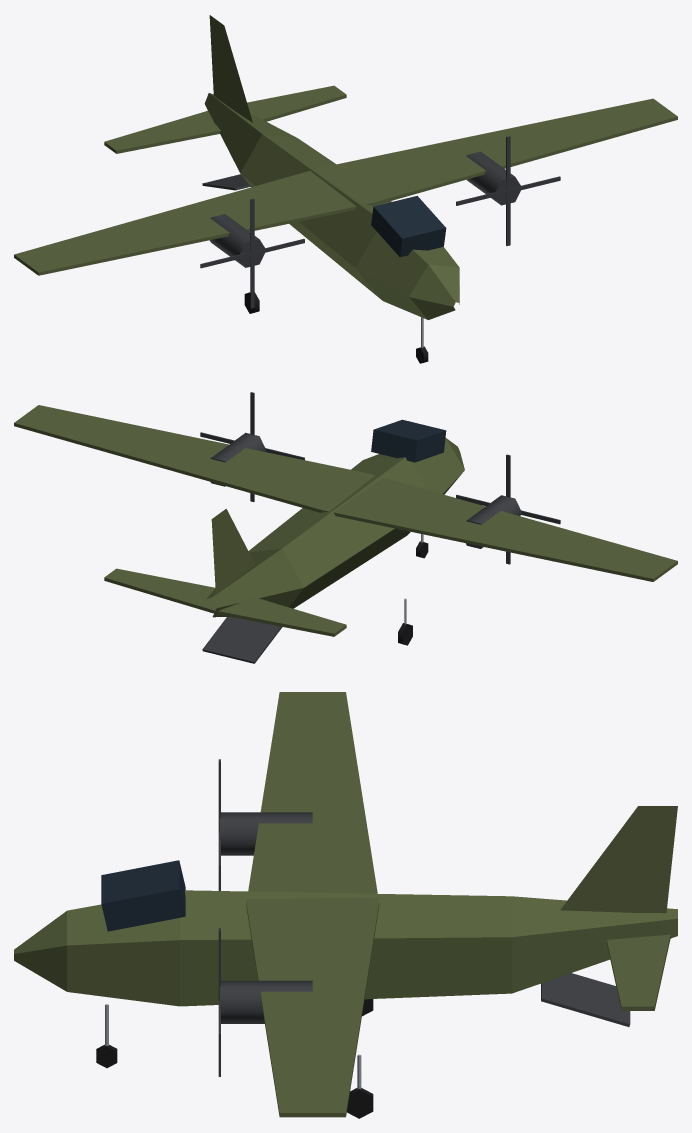
File: veh_air_transport_plane_a06_lod1.glb
3 renders of one model, top to bottom at view 1: azimuth 30°, elevation 25°; view 2: azimuth 150°, elevation 25°; view 3: azimuth 270°, elevation 25°, orthographic. The views are drawn at different scales.
Visible parts, largest first — view 1: body, propeller_1, propeller_0; view 2: body, ramp, propeller_0, propeller_1; view 3: body, ramp, gear_2.
Part boxes in pixels (x1,y1,x2,y2): body: (14,15,677,319); propeller_1: (456,136,560,245); propeller_0: (200,198,304,308); body: (14,405,677,636); ramp: (202,617,282,663); propeller_0: (456,454,560,564); propeller_1: (200,392,304,501); body: (14,692,677,1117); ramp: (541,973,630,1026); gear_2: (347,1054,373,1118).
Size of the model in its own units: 24.72 by 7.16 by 16.48.
